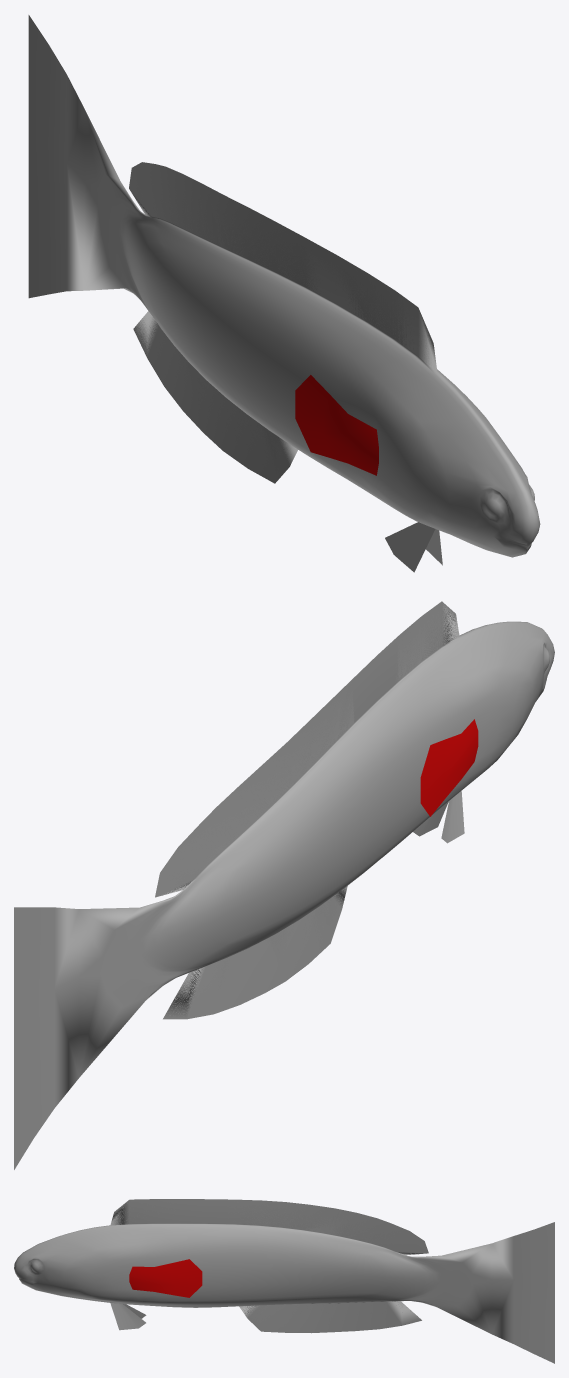
The model's file is Malachantidae_A.fbx.
3 views of the same model, one above another, from view 1: azimuth 30°, elevation 25°; view 2: azimuth 150°, elevation 25°; view 3: azimuth 270°, elevation 25° (orthographic). The views are drawn at different scales.
Parts seen in each view (by area): view 1: Malachantidae_A_LOD0; view 2: Malachantidae_A_LOD0; view 3: Malachantidae_A_LOD0.
Boxes of the visible parts, box(x1,y1,x2,y2) form: Malachantidae_A_LOD0: box(28, 15, 540, 572); Malachantidae_A_LOD0: box(14, 601, 554, 1169); Malachantidae_A_LOD0: box(14, 1199, 554, 1363).
Size of what is drawn, in the model's own units: 0.103 by 0.3223 by 1.01.
